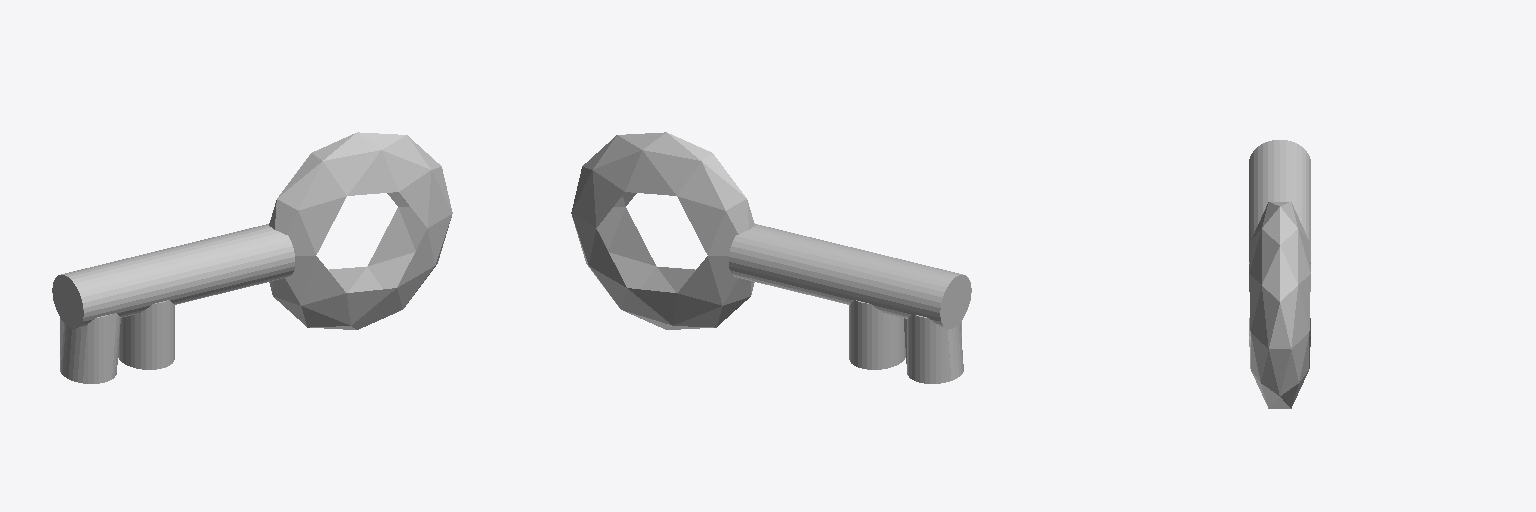
File: key.obj
3 renders of one model, left to right at view 1: azimuth 30°, elevation 25°; view 2: azimuth 150°, elevation 25°; view 3: azimuth 270°, elevation 25°, orthographic.
Parts seen in each view (by area): view 1: key; view 2: key; view 3: key.
Boxes of the visible parts, x1,y1,x2,y2 form: key: [52, 132, 452, 383]; key: [571, 132, 971, 383]; key: [1249, 140, 1310, 408].
Size of the model in its own units: 2.38 by 1.18 by 0.3386.